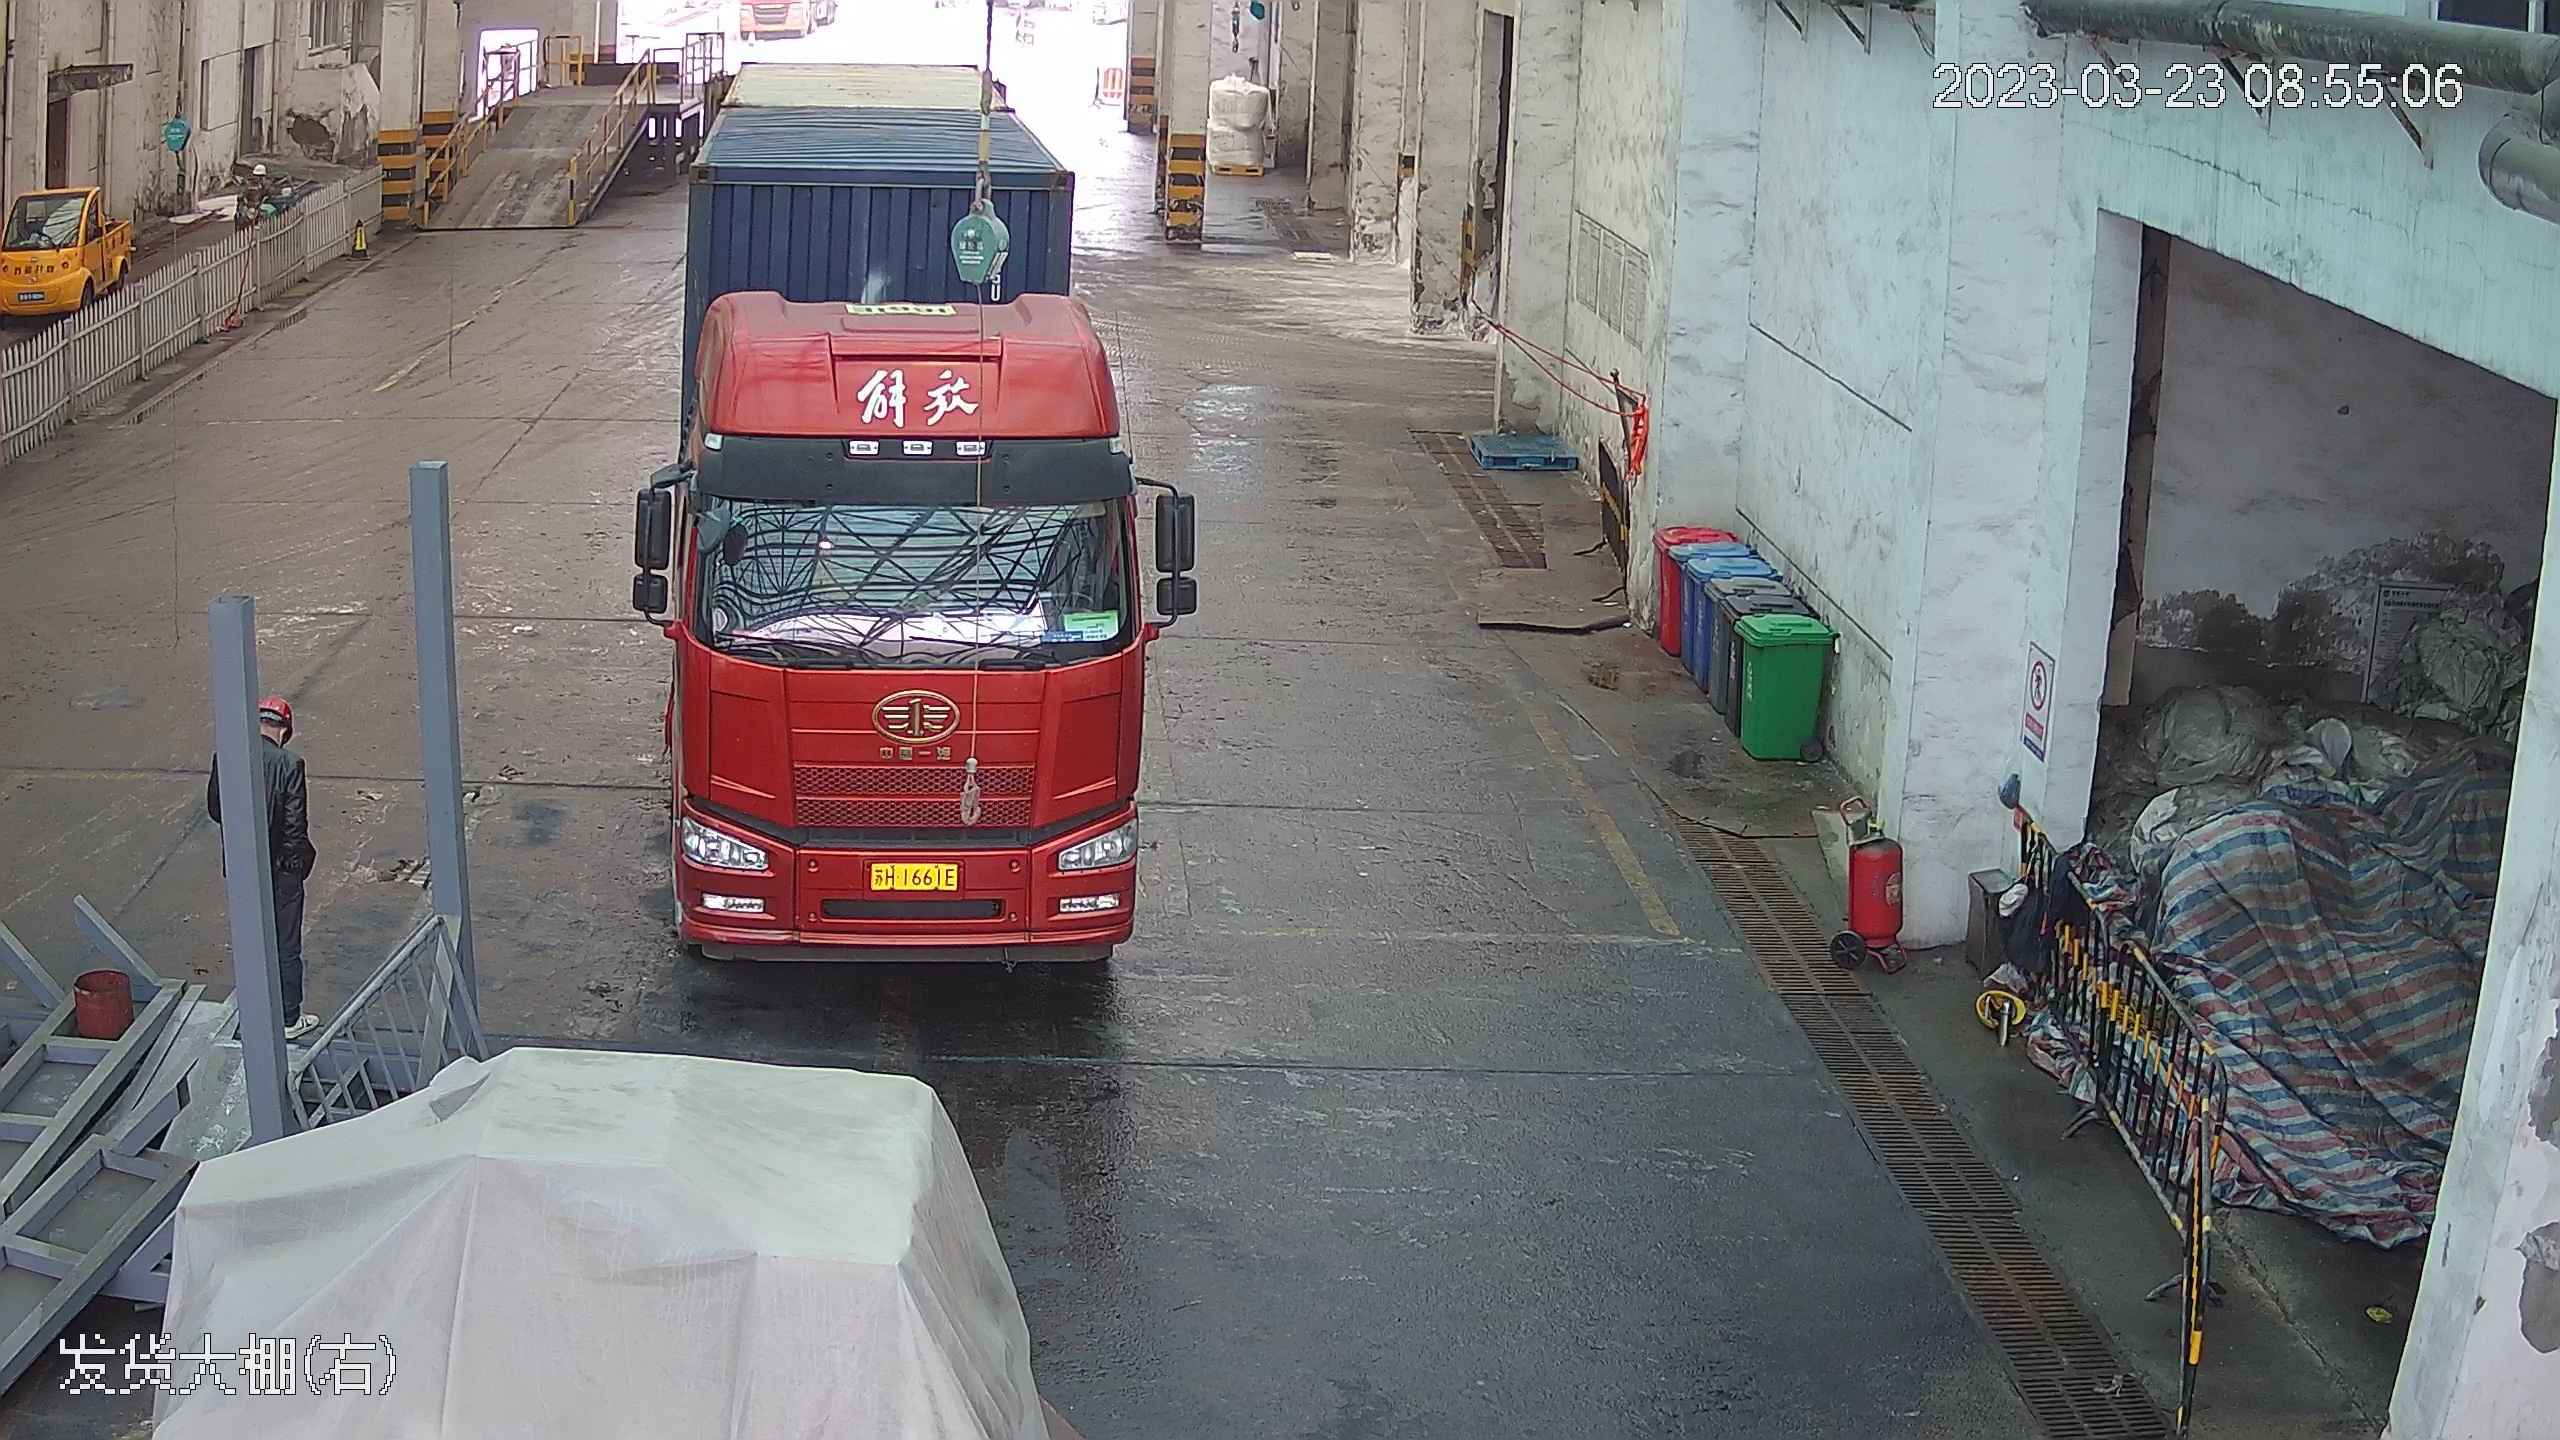head: (248, 688, 306, 784), (242, 163, 270, 193)
helmet: (255, 689, 294, 723), (250, 164, 267, 177)
people: (240, 678, 320, 1030), (231, 163, 275, 233)
truck: (636, 27, 1175, 961)
